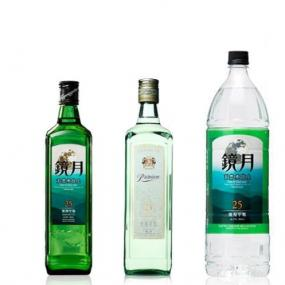soju: (204, 49, 273, 278), (39, 77, 96, 276), (124, 75, 175, 278)
